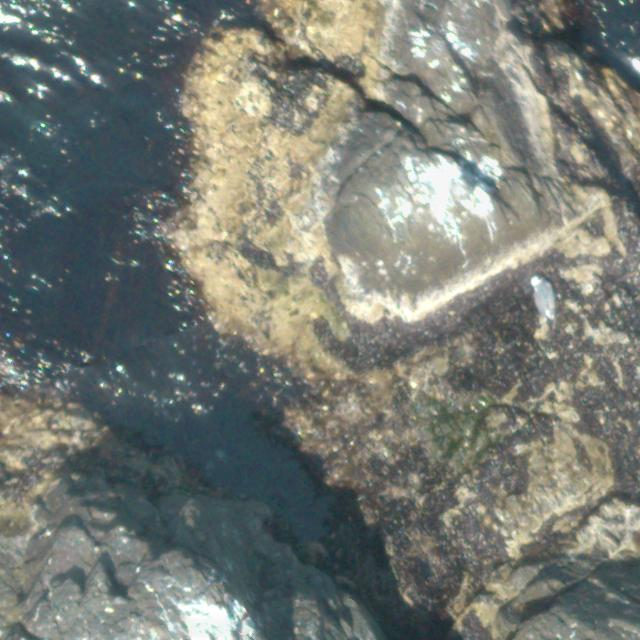umineko: (532, 277, 554, 322)
